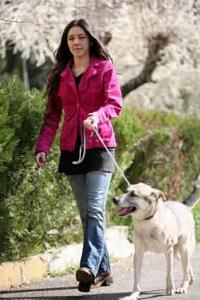person: (35, 21, 123, 290)
